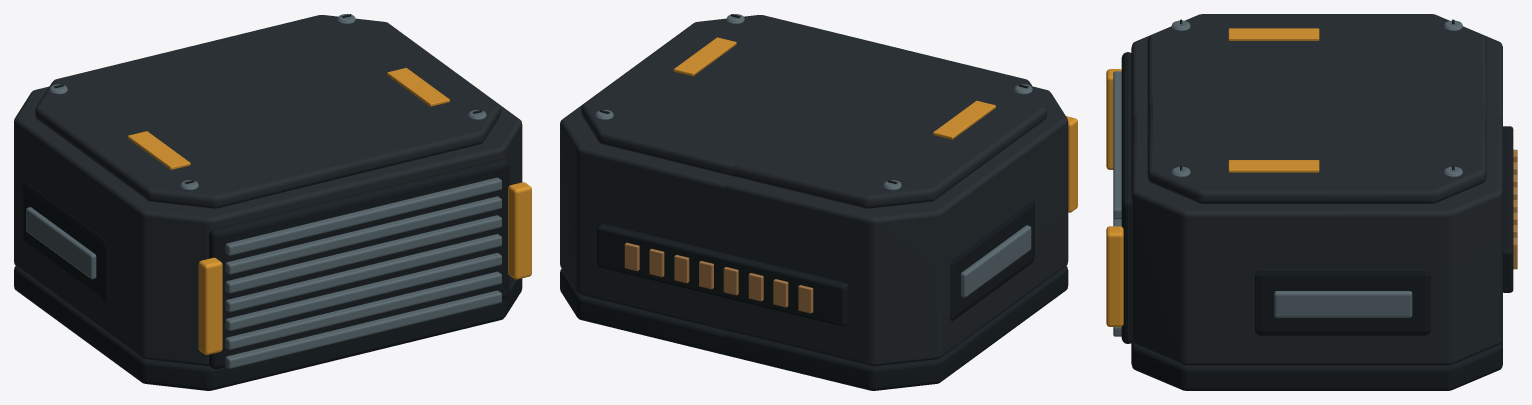
The model's file is cargo_module.glb.
3 renders of one model, left to right at view 1: azimuth 30°, elevation 25°; view 2: azimuth 150°, elevation 25°; view 3: azimuth 270°, elevation 25°, orthographic. The views are drawn at different scales.
Visible parts, largest first — view 1: ServiceLid, ConformalCassetteShell, CargoShutterRecess, LowerIsolationSeal, CargoLatch.001, CargoShutterSlat.005, CargoShutterSlat.004, CargoShutterSlat.001, CargoShutterSlat, CargoShutterSlat.002, CargoShutterSlat.003, CargoShutterSlat.006 (+3 smaller); view 2: ConformalCassetteShell, ServiceLid, LowerIsolationSeal, ConnectorRecess, RecessedCoupler.001, WitnessMark.001, CouplerRail.001, CargoLatch.001, GoldContact.006, GoldContact.005, GoldContact.007, GoldContact.004; view 3: ServiceLid, ConformalCassetteShell, LowerIsolationSeal, RecessedCoupler.001, CouplerRail.001, CargoShutterRecess, CargoLatch.001, WitnessMark.001, ConnectorRecess, CargoShutterSlat.006.
Part boxes in pixels (<box>): ServiceLid: <box>35,15,500,208</box>; ConformalCassetteShell: <box>14,86,522,366</box>; CargoShutterRecess: <box>209,159,509,369</box>; LowerIsolationSeal: <box>14,266,522,390</box>; CargoLatch.001: <box>198,182,531,354</box>; CargoShutterSlat.005: <box>225,196,501,274</box>; CargoShutterSlat.004: <box>225,215,501,293</box>; CargoShutterSlat.001: <box>225,271,501,349</box>; CargoShutterSlat: <box>225,290,501,368</box>; CargoShutterSlat.002: <box>225,253,501,330</box>; CargoShutterSlat.003: <box>225,234,501,312</box>; CargoShutterSlat.006: <box>225,177,501,255</box>; ConformalCassetteShell: <box>560,86,1068,366</box>; ServiceLid: <box>581,15,1046,208</box>; LowerIsolationSeal: <box>560,266,1068,390</box>; ConnectorRecess: <box>597,224,848,326</box>; RecessedCoupler.001: <box>950,200,1034,321</box>; WitnessMark.001: <box>673,37,995,139</box>; CouplerRail.001: <box>961,225,1031,297</box>; CargoLatch.001: <box>1066,116,1077,212</box>; GoldContact.006: <box>649,248,788,307</box>; GoldContact.005: <box>674,255,763,301</box>; GoldContact.007: <box>624,242,813,313</box>; GoldContact.004: <box>699,261,738,295</box>; ServiceLid: <box>1147,14,1486,203</box>; ConformalCassetteShell: <box>1131,35,1502,365</box>; LowerIsolationSeal: <box>1131,340,1502,390</box>; RecessedCoupler.001: <box>1255,269,1431,335</box>; CouplerRail.001: <box>1274,291,1412,317</box>; CargoShutterRecess: <box>1121,52,1132,343</box>; CargoLatch.001: <box>1106,69,1123,326</box>; WitnessMark.001: <box>1228,28,1319,172</box>; ConnectorRecess: <box>1503,126,1513,292</box>; CargoShutterSlat.006: <box>1113,71,1121,219</box>.
Bounding box in the file's own units: 1.1 × 0.514 × 0.9515.
